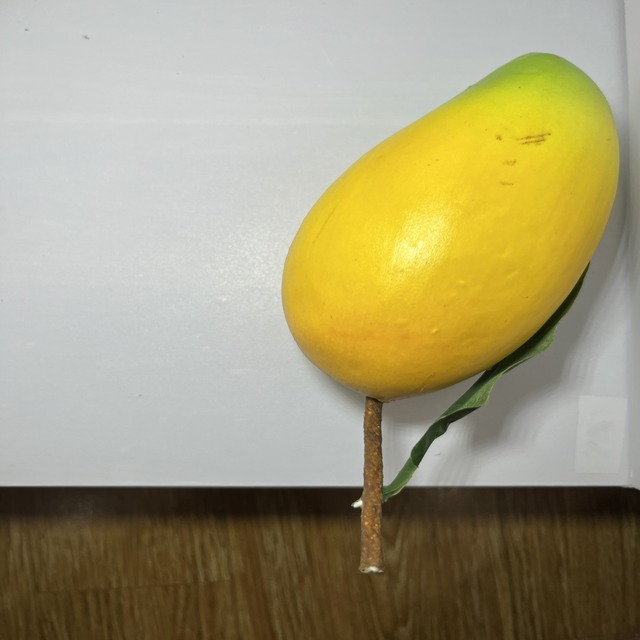Xoai: (266, 52, 634, 403)
